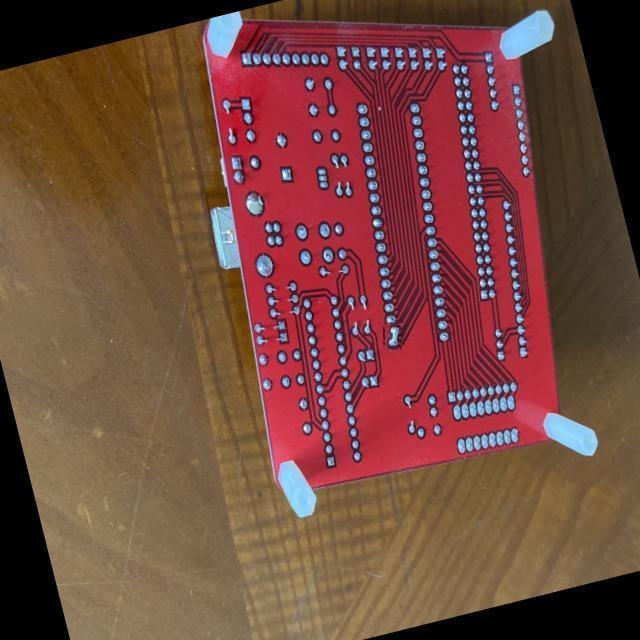damged: (384, 323, 402, 349)
